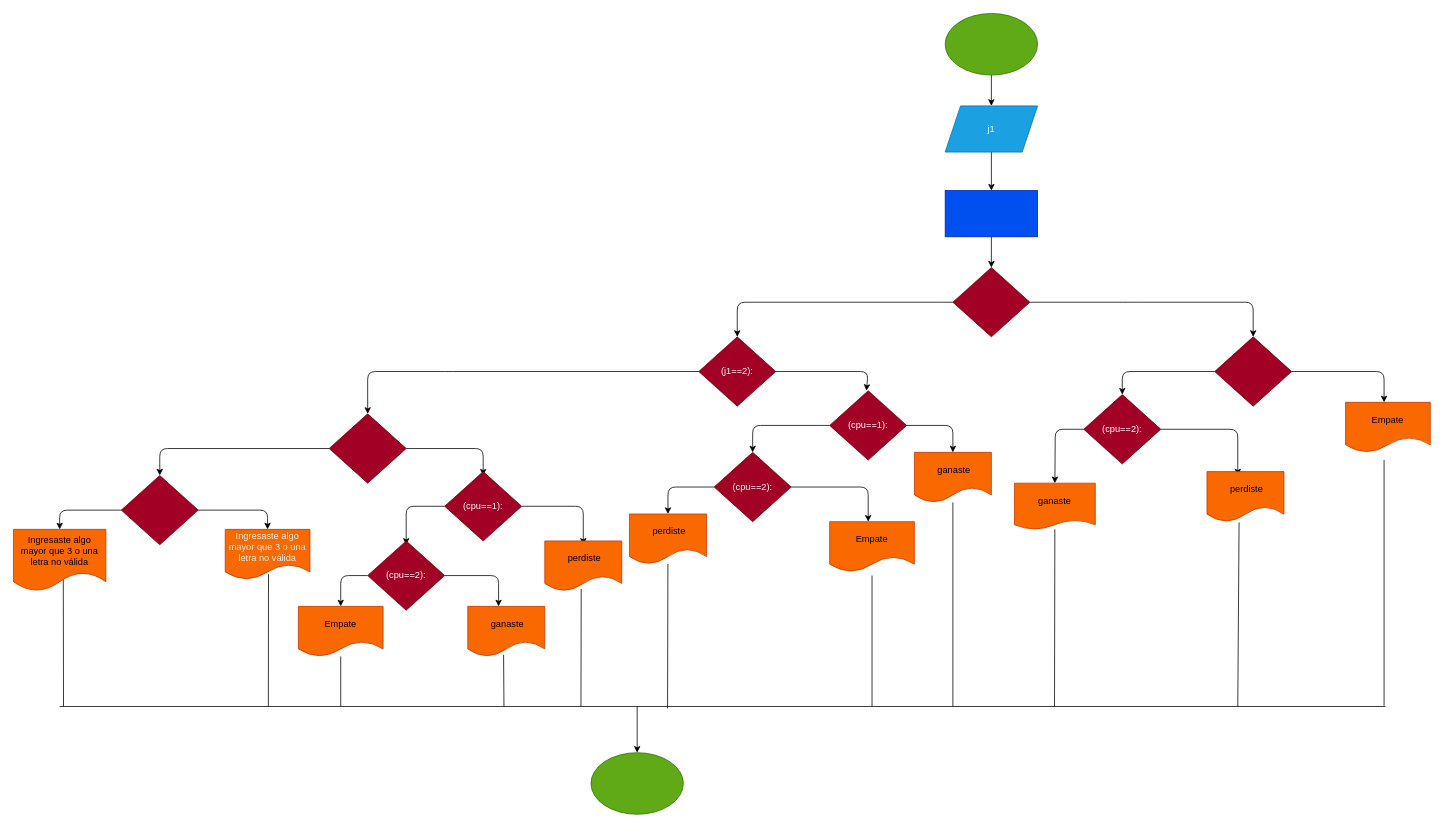
This 1444x828 diagram has some shape labels left out. The centre of each missing label's shape, as x and y in pixels:
(cpu ==1):: (x=1253, y=371)
(j1==1):: (x=991, y=302)
(j1==3).: (x=367, y=448)
(j1>3):: (x=159, y=510)
cpu = random.randint(1,3): (x=991, y=213)
Fin: (x=636, y=783)
Inicio: (x=991, y=44)
